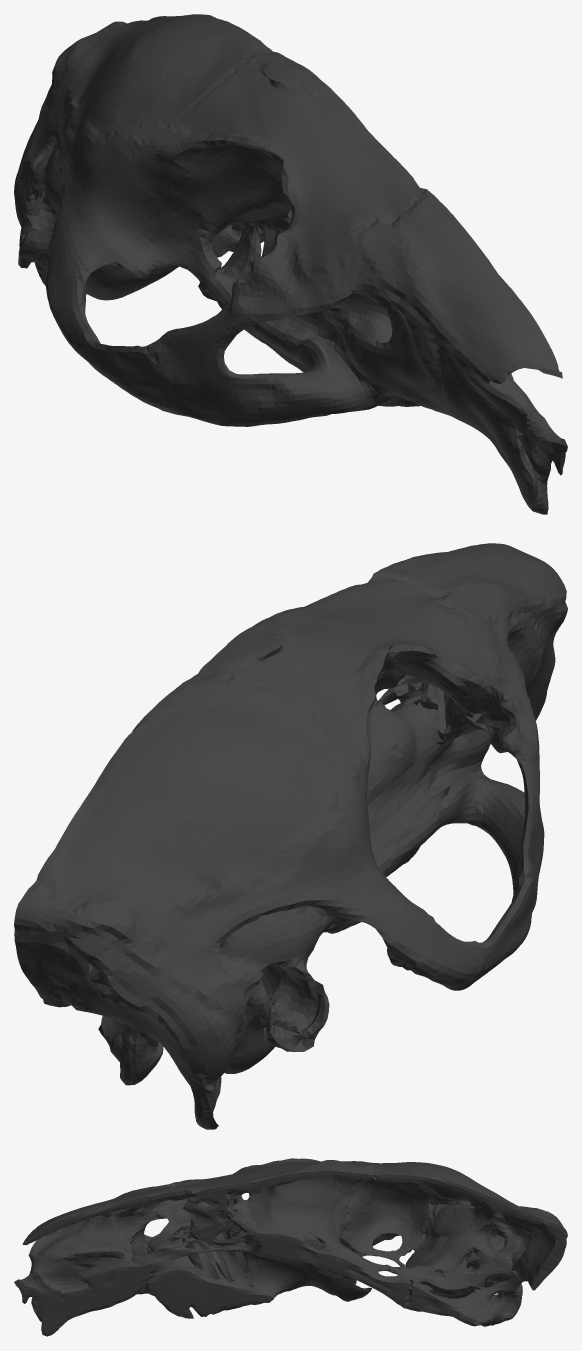
The model's file is Top_Skull.glb.
3 renders of one model, top to bottom at view 1: azimuth 30°, elevation 25°; view 2: azimuth 150°, elevation 25°; view 3: azimuth 270°, elevation 25°, orthographic. The views are drawn at different scales.
Visible parts, largest first — view 1: Top_Skull; view 2: Top_Skull; view 3: Top_Skull.
Boxes of the visible parts, box(x1,y1,x2,y2) form: Top_Skull: box(14, 14, 567, 514); Top_Skull: box(14, 543, 567, 1129); Top_Skull: box(14, 1158, 567, 1336).
Size of the model in its own units: 1.62 by 2.13 by 5.74.
1 material, 1 textured.
